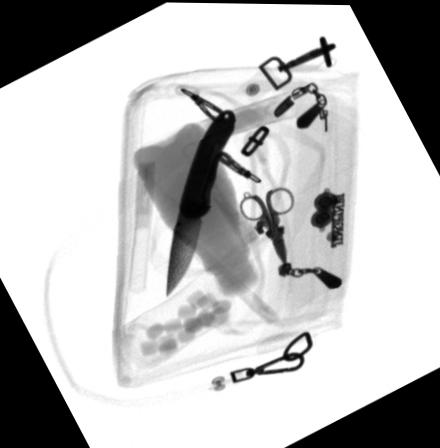Knife: (164, 107, 236, 298)
Scissors: (237, 186, 294, 269)
